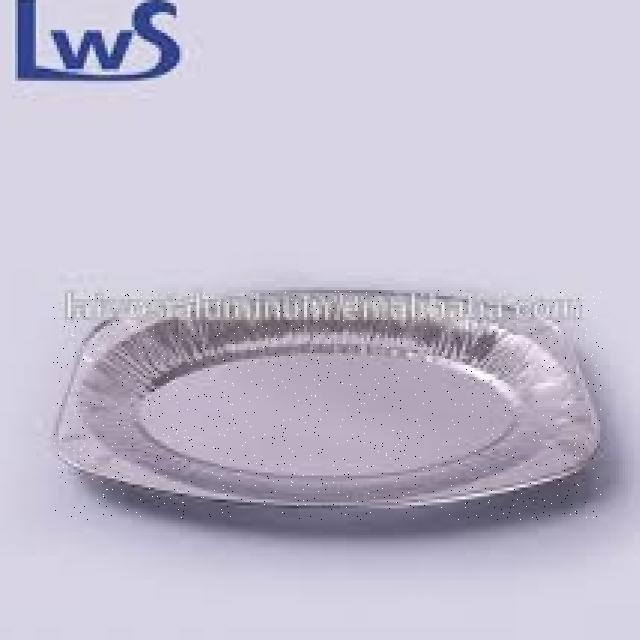metal: (54, 290, 603, 520)
